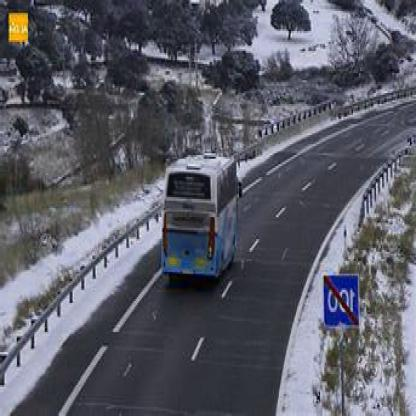bus: (166, 160, 237, 273)
